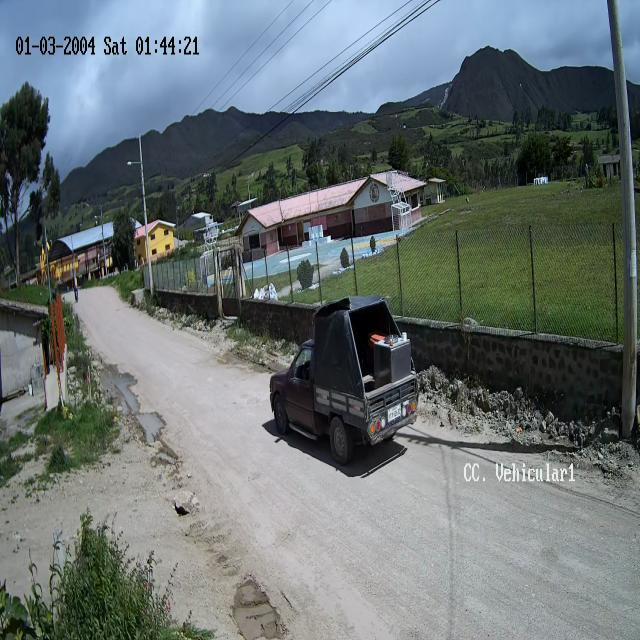CMT: (272, 297, 418, 462)
